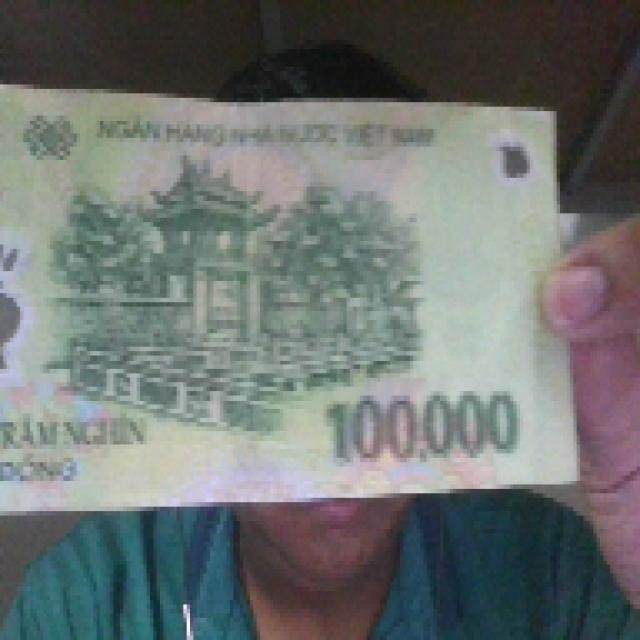100 000 VND: (1, 76, 585, 511)
